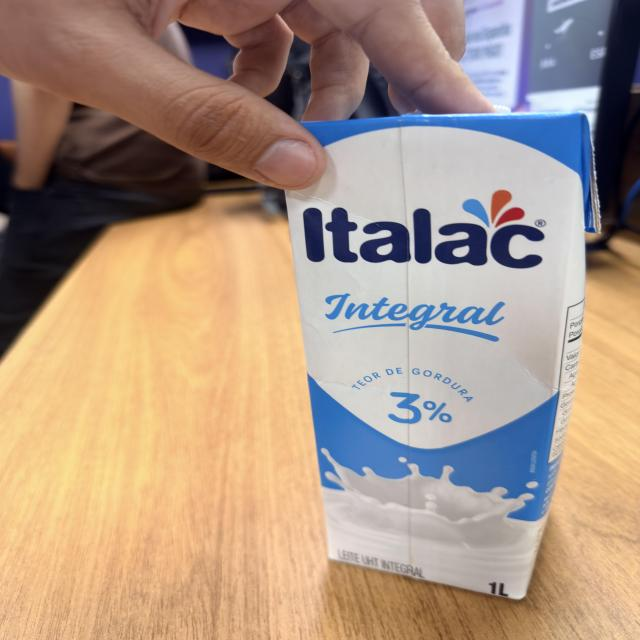Caixa de Leite: (288, 112, 592, 602)
